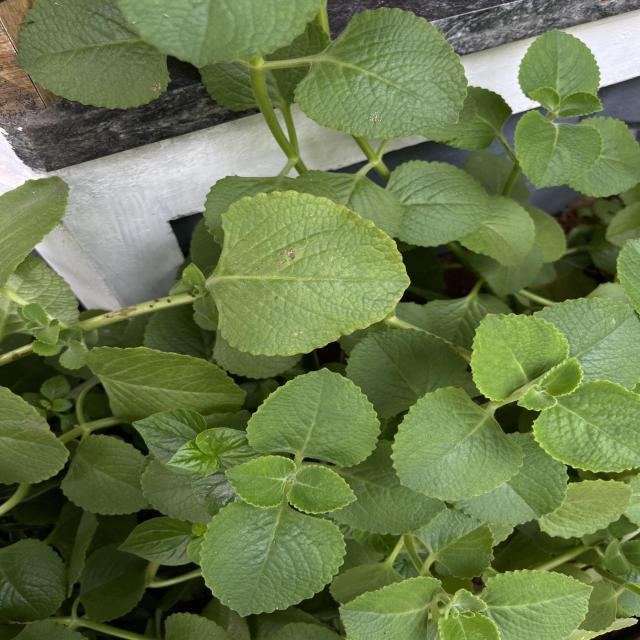Plectranthus barbatus: (213, 188, 414, 358), (292, 6, 468, 140), (13, 0, 173, 112), (199, 501, 348, 618), (388, 384, 528, 502), (244, 366, 382, 469), (82, 344, 248, 419), (531, 379, 640, 474), (383, 158, 492, 249), (466, 312, 572, 402), (481, 567, 594, 640), (60, 432, 150, 516), (512, 108, 604, 190), (338, 575, 442, 640), (517, 27, 601, 101), (569, 115, 640, 199), (0, 536, 68, 623), (540, 478, 635, 540), (417, 507, 495, 582), (224, 454, 296, 508), (286, 464, 358, 516), (558, 91, 604, 119)
